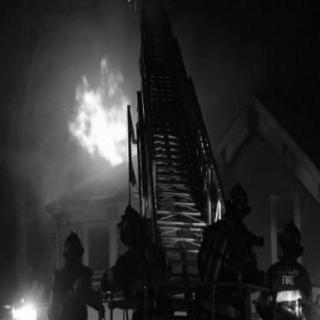other: (8, 292, 42, 318)
